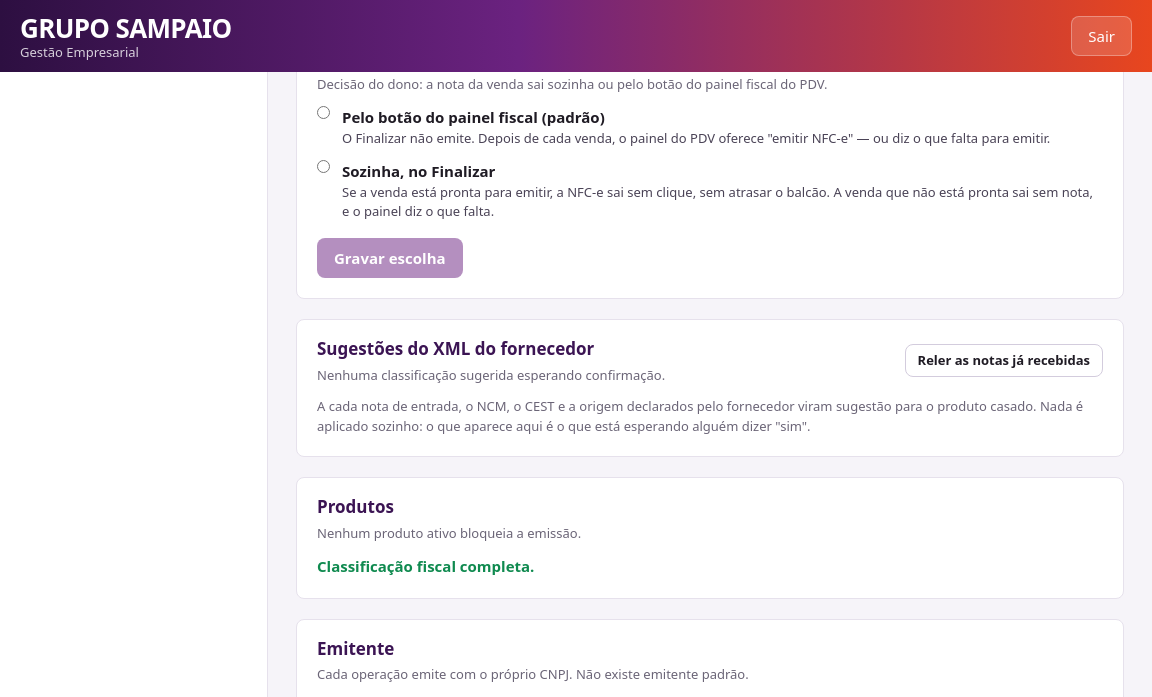
Test: o botão de reler as notas já recebidas › zero também é resposta: diz que nenhuma linha precisou do fator
(page scrolled)
Expected: the text "Nenhuma classificação sugerida esperando confirmação." is shown, [317,366,665,385]
Click the button "Reler as notas já recebidas". click: (1004, 361)
box: [905,344,1103,377]
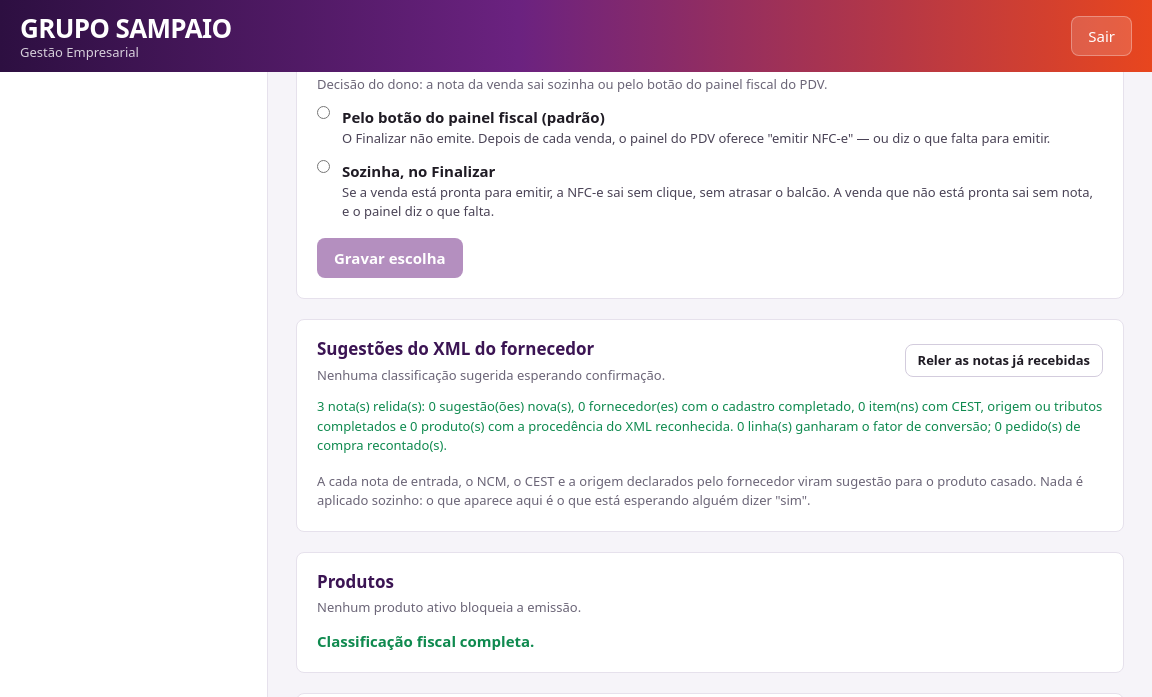
Now the text "3 nota(s) relida(s)" shows "0 linha(s) ganharam o fator de conversão; 0 pedido(s) de compra recontado(s).", box [317,397,1102,454]
